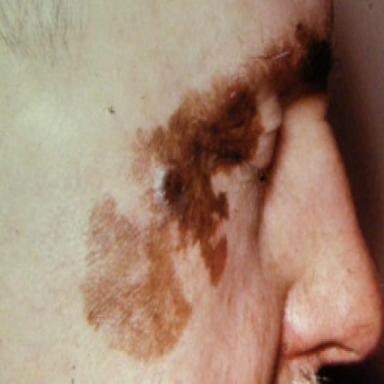Melanoma: (82, 20, 330, 359)
